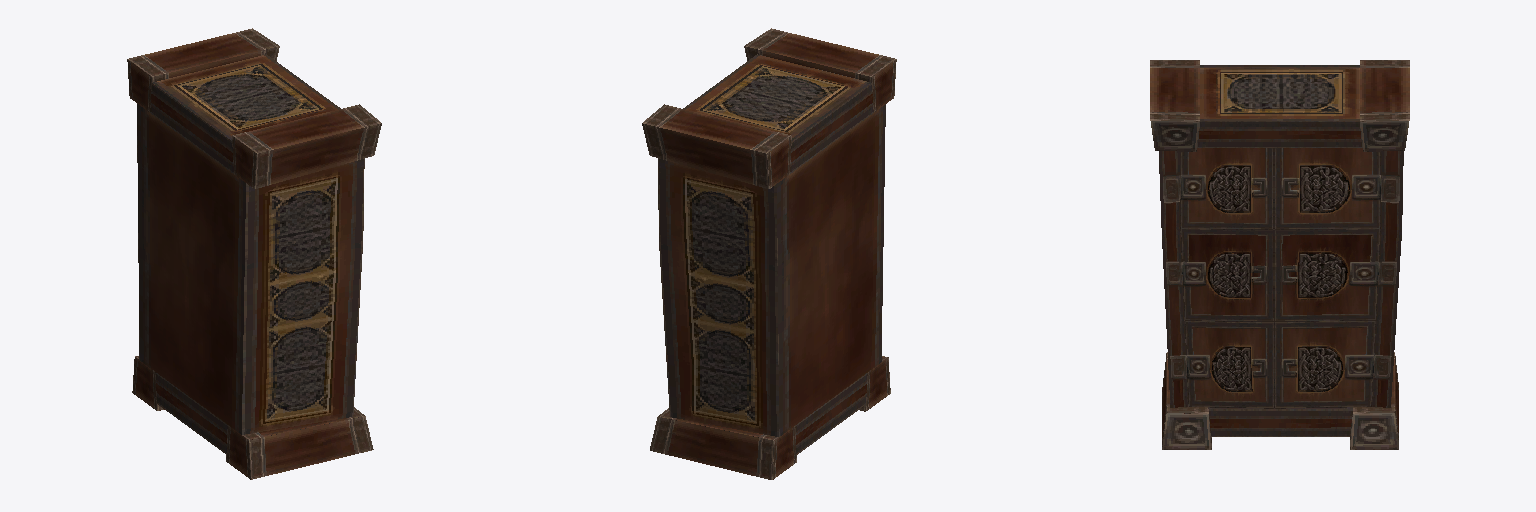
3 views of the same model, side by side, from view 1: azimuth 30°, elevation 25°; view 2: azimuth 150°, elevation 25°; view 3: azimuth 270°, elevation 25° (orthographic).
Parts seen in each view (by area): view 1: wardrobedwarvenornate03.m2; view 2: wardrobedwarvenornate03.m2; view 3: wardrobedwarvenornate03.m2.
Part boxes in pixels (x1,y1,x2,y2): wardrobedwarvenornate03.m2: (127, 28, 381, 479); wardrobedwarvenornate03.m2: (642, 28, 896, 479); wardrobedwarvenornate03.m2: (1150, 60, 1409, 449).
Bounding box in the file's own units: 1.36 × 3.36 × 2.39.
1 materials, 1 textured.